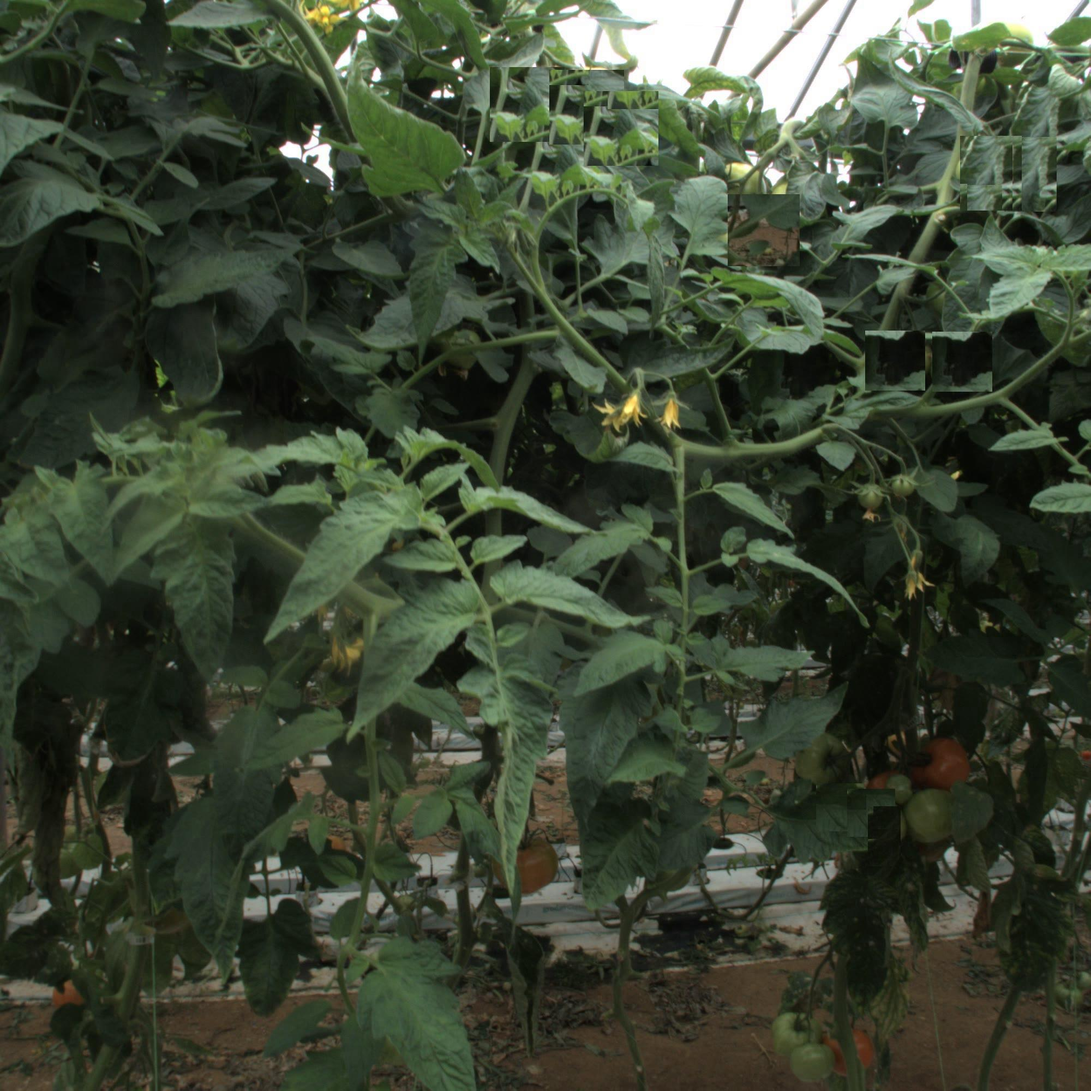fully-ripe: (909, 736, 966, 793), (824, 1027, 874, 1077)
semi-ripe: (490, 829, 559, 897)
unripe: (904, 787, 961, 844), (792, 732, 849, 788), (772, 1009, 822, 1059), (793, 1042, 834, 1084)
